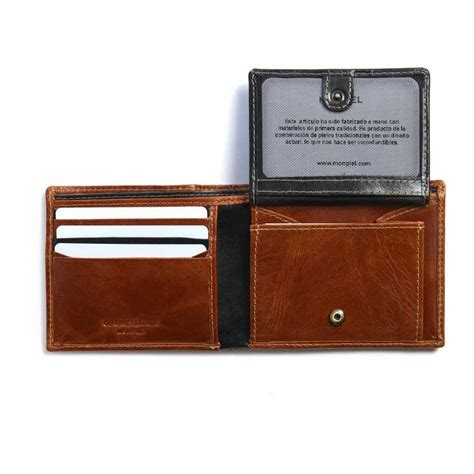cuero: (44, 67, 445, 352)
